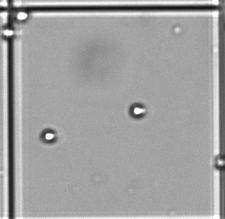Living Cell: (129, 102, 147, 118), (41, 128, 57, 144), (15, 9, 29, 22), (2, 28, 16, 39)
